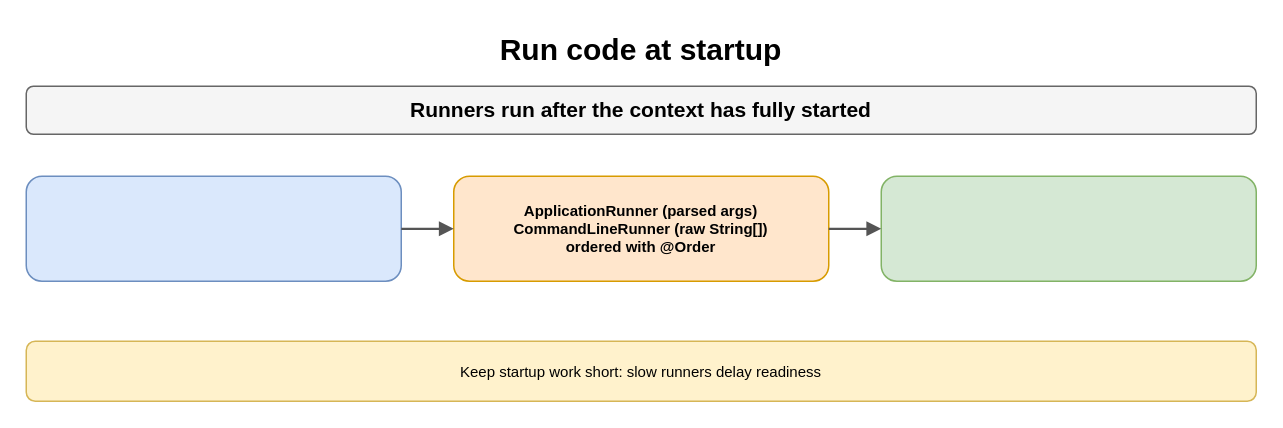
Some shapes in this 1283 by 428 pixel diagram are drawn without their labels. The shapes that lost their labels are listed below. From the top down, each one's centre as x and y in pixels, then its label:
(x=213, y=228): context started
(x=1068, y=228): @EventListener( ApplicationReadyEvent) ready for requests
